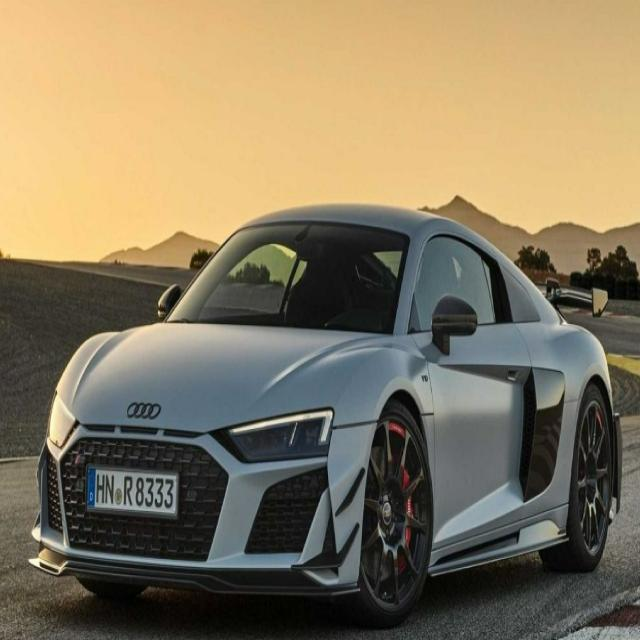sports car: (0, 167, 636, 629)
